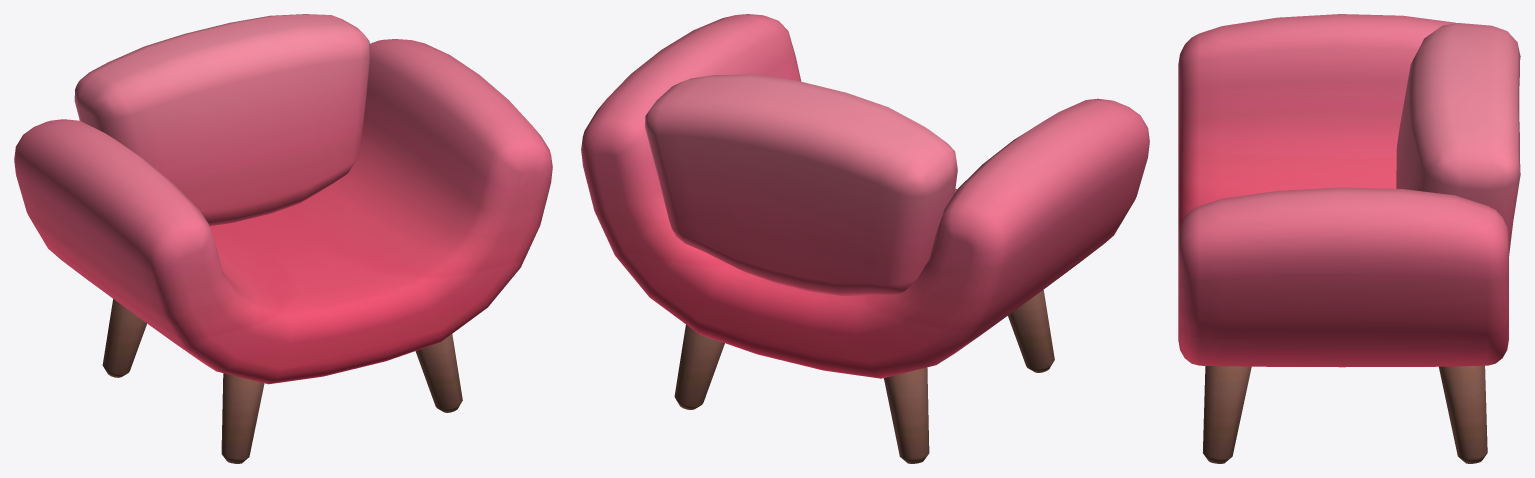
The model's file is Armchair_04.glb.
3 views of the same model, side by side, from view 1: azimuth 30°, elevation 25°; view 2: azimuth 150°, elevation 25°; view 3: azimuth 270°, elevation 25° (orthographic). The views are drawn at different scales.
Visible parts, largest first — view 1: Armchair_04; view 2: Armchair_04; view 3: Armchair_04.
Part boxes in pixels (x1=…): Armchair_04: x1=14, y1=14, x2=552, y2=463; Armchair_04: x1=581, y1=14, x2=1149, y2=463; Armchair_04: x1=1178, y1=14, x2=1520, y2=463.
Bounding box in the file's own units: 1.04 × 0.7676 × 0.6984.
1 material, 1 textured.
